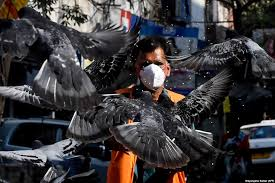mask: (137, 47, 166, 89)
